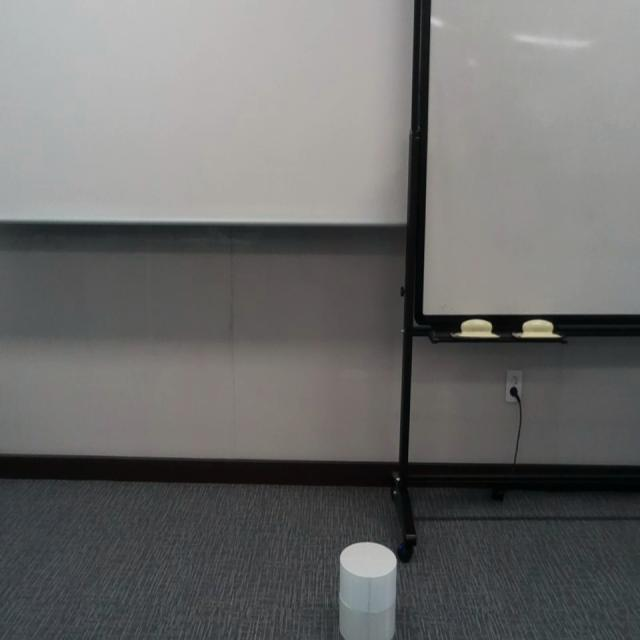cylinder: (338, 541, 398, 640)
